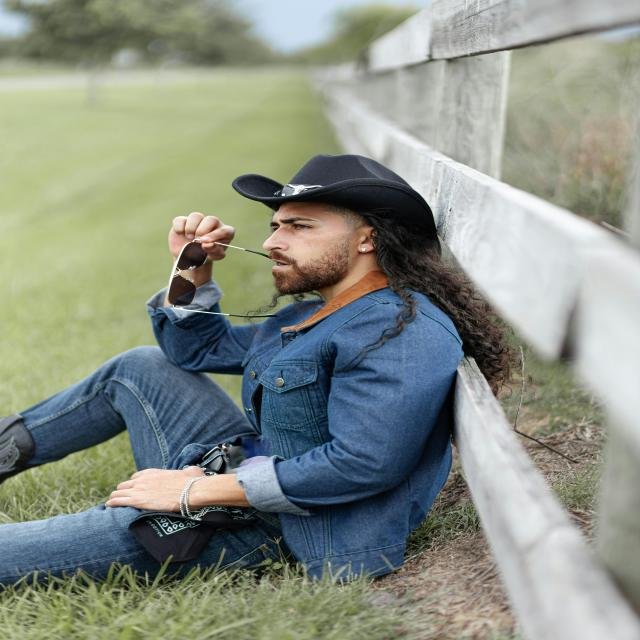no_hard_hat: (232, 155, 436, 235)
